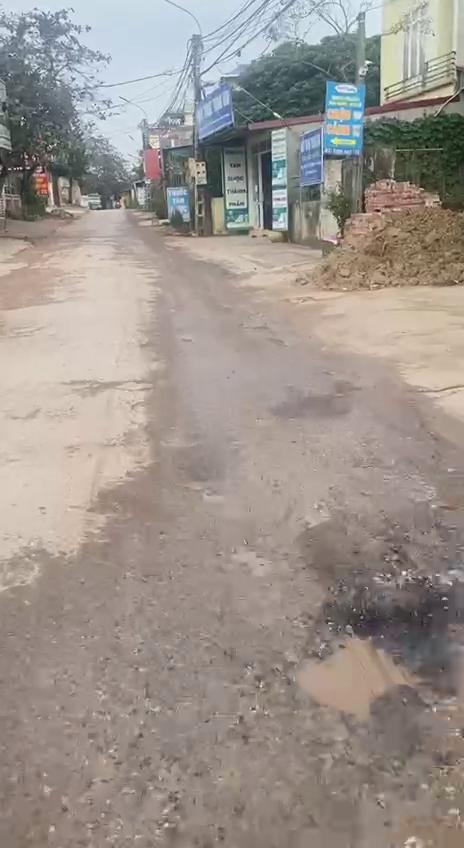pothole: (266, 554, 464, 848)
